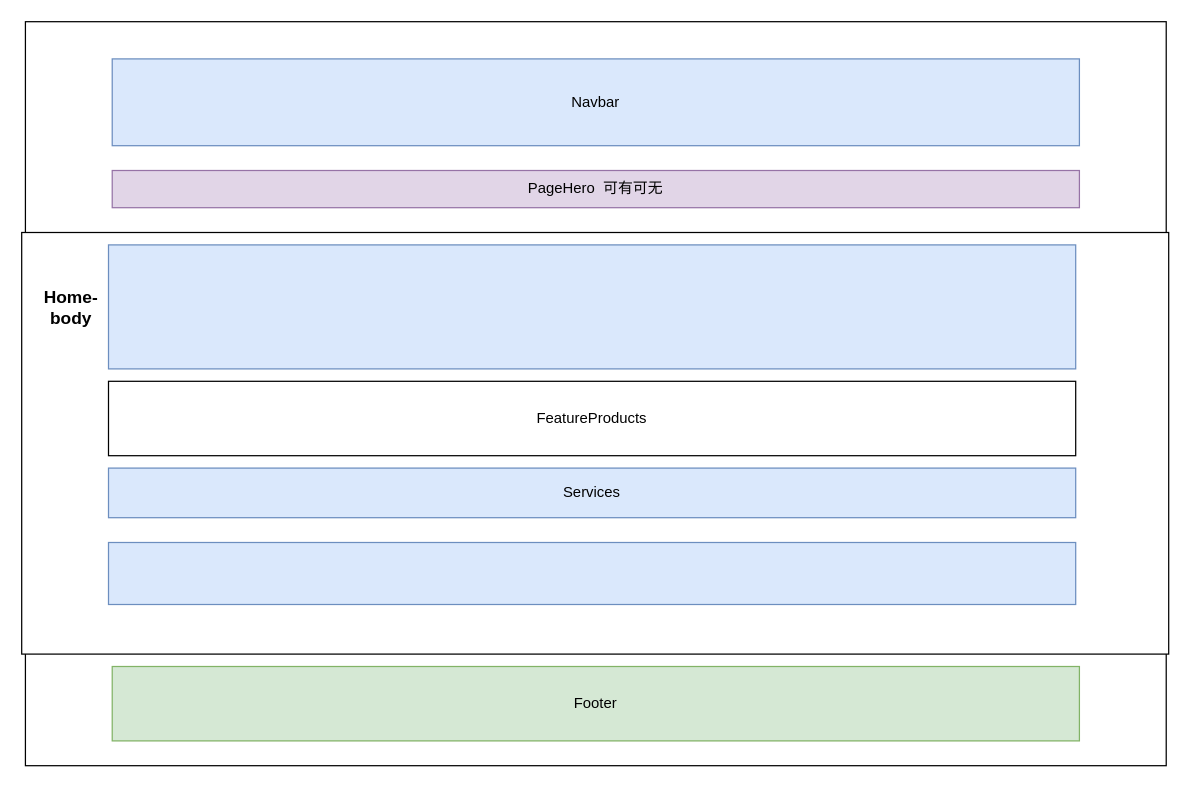
The diagram is 1190 pixels wide and 787 high, and some of its shapes have lost their labels. Here are the shapes that lost their labels. From the top down, the centre of each, then its label:
At pixel 591 306: "Hero-横幅".
At pixel 591 572: "Contact".
